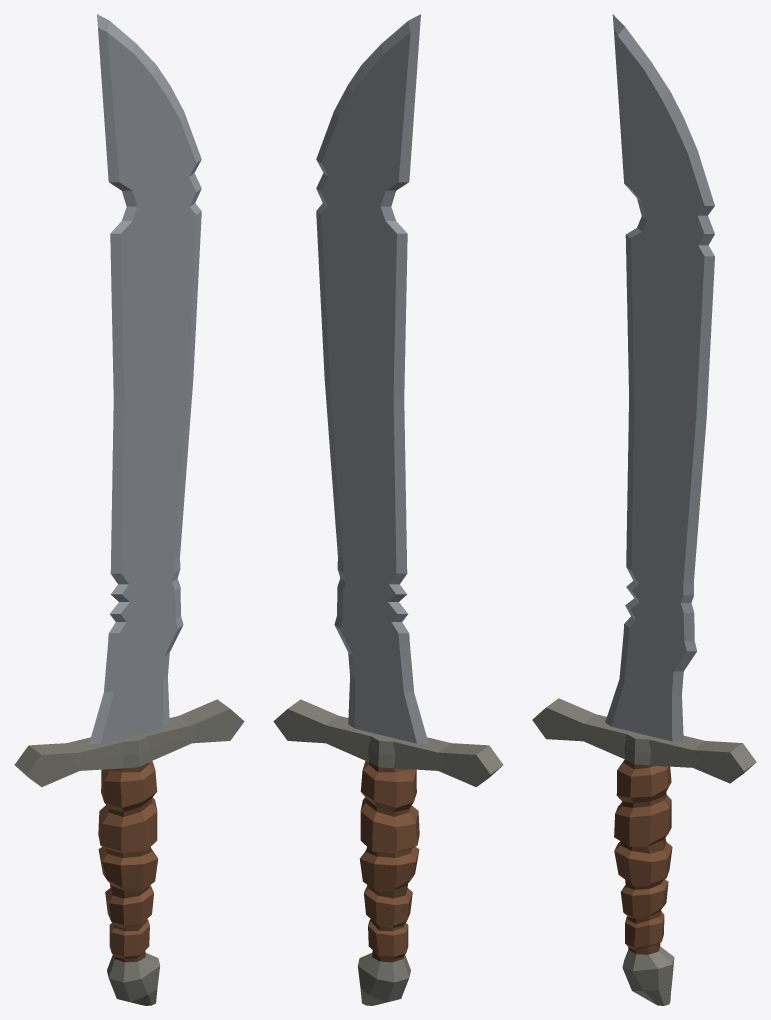
File: Sword_2.glb
3 renders of one model, left to right at view 1: azimuth 30°, elevation 25°; view 2: azimuth 150°, elevation 25°; view 3: azimuth 330°, elevation 25°, orthographic. The views are drawn at different scales.
Parts seen in each view (by area): view 1: Steel, LightSteel, DarkSteel, LightWood, DarkWood; view 2: Steel, LightSteel, DarkSteel, LightWood, DarkWood; view 3: Steel, LightSteel, DarkSteel, LightWood, DarkWood.
Part boxes in pixels (x1,y1,x2,y2): Steel: [101, 32, 196, 743]; LightSteel: [89, 14, 201, 743]; DarkSteel: [14, 699, 244, 1005]; LightWood: [98, 761, 158, 959]; DarkWood: [106, 762, 152, 962]; Steel: [321, 32, 416, 743]; LightSteel: [316, 14, 428, 743]; DarkSteel: [273, 699, 503, 1005]; LightWood: [359, 761, 419, 959]; DarkWood: [365, 762, 411, 962]; Steel: [611, 36, 704, 741]; LightSteel: [605, 14, 714, 741]; DarkSteel: [532, 698, 756, 1005]; LightWood: [614, 760, 672, 950]; DarkWood: [620, 759, 666, 954].
Bounding box in the file's own units: 1.22 × 5.36 × 0.3104.
